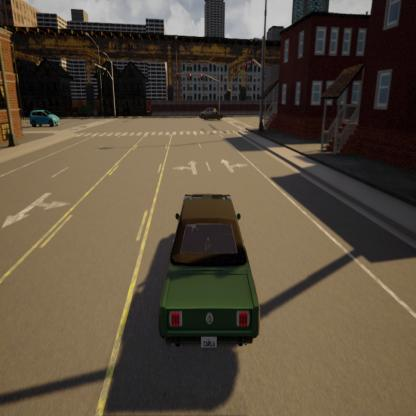Cars: (144, 166, 271, 350), (24, 96, 64, 136), (195, 96, 232, 135)
